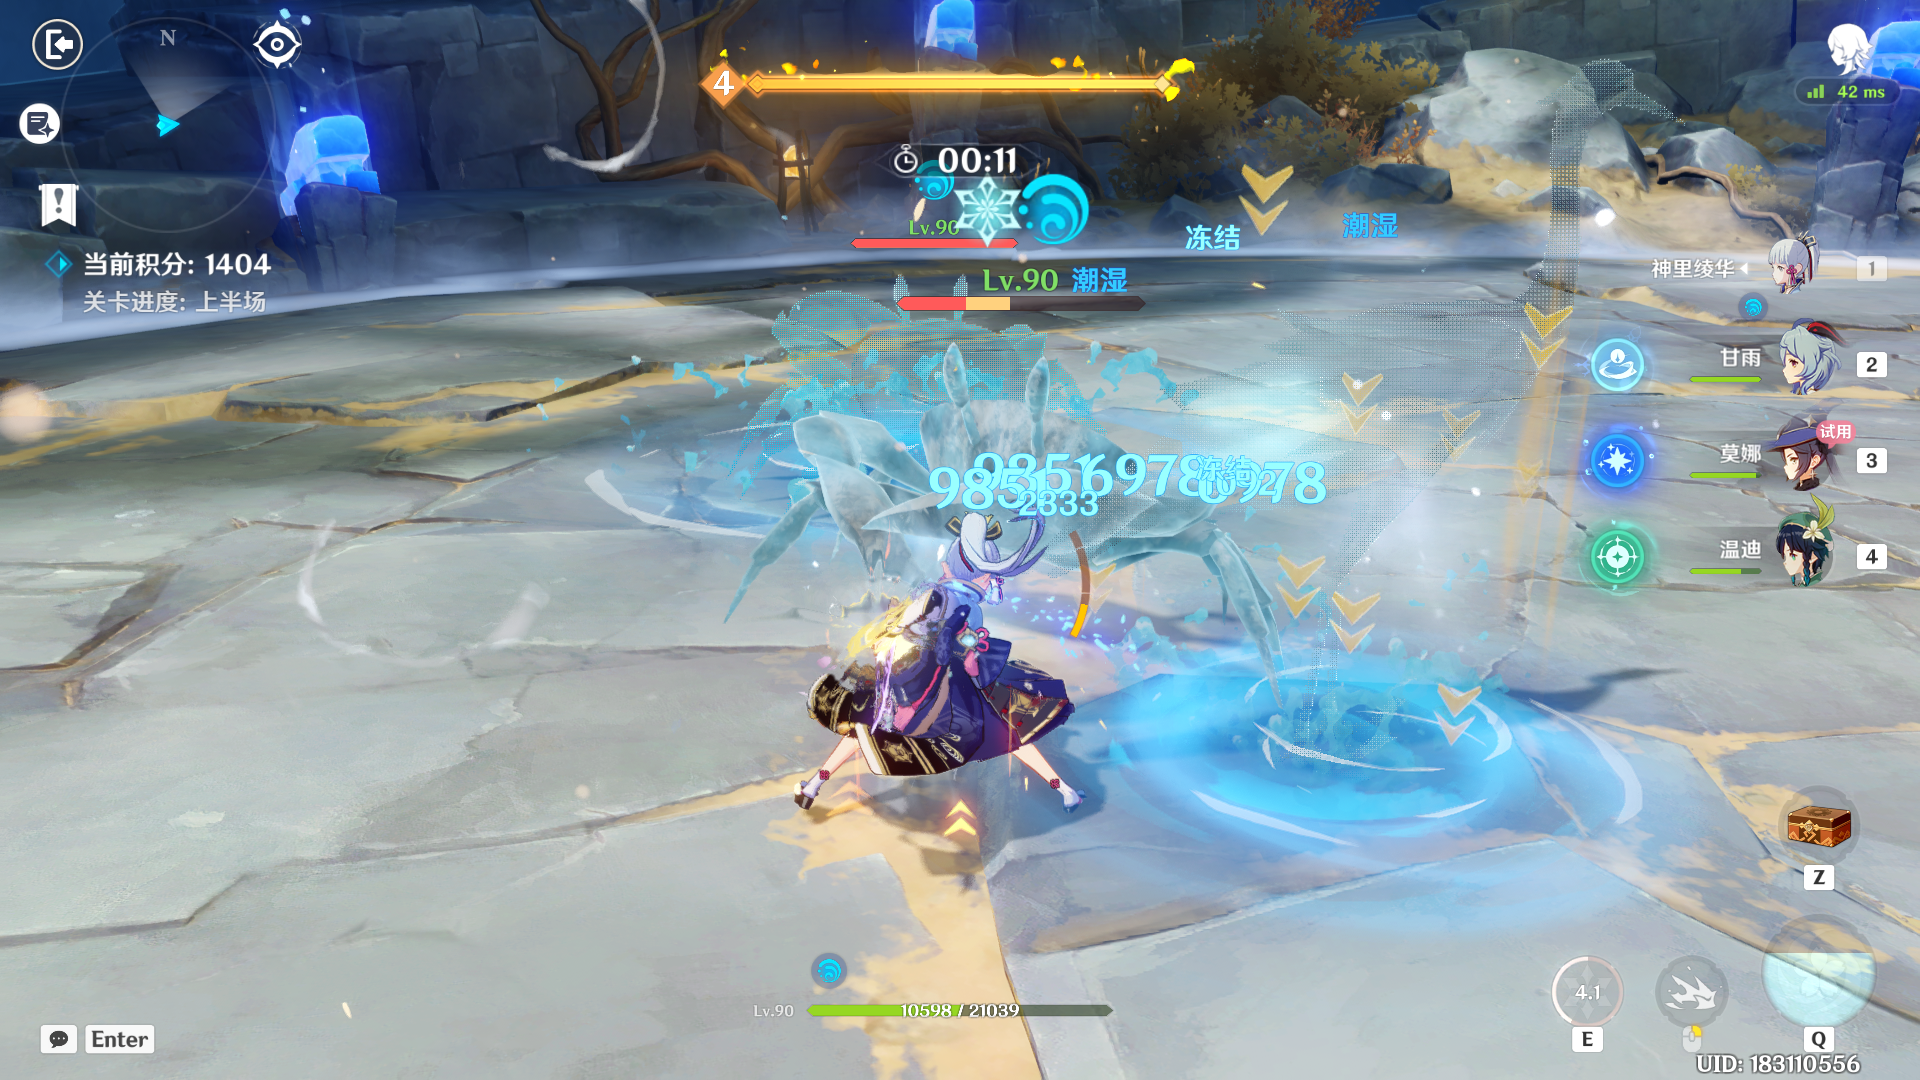character: (779, 469, 1138, 942)
